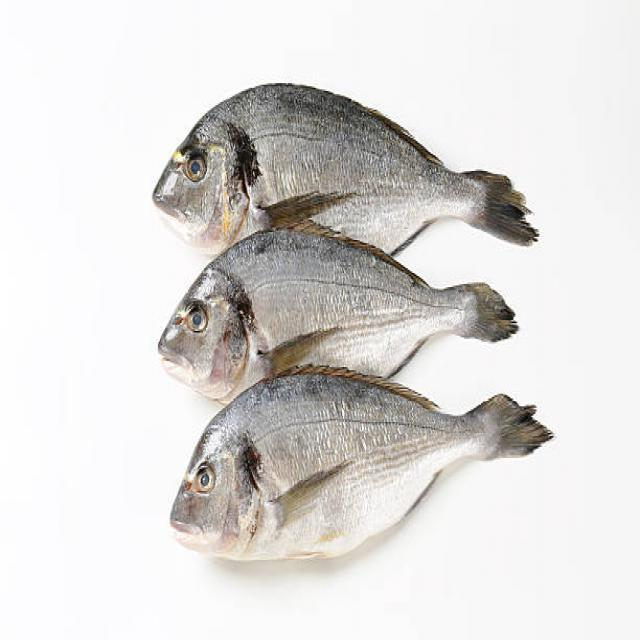Healthy Fish: (114, 61, 558, 246), (142, 368, 552, 567), (114, 224, 557, 385)
